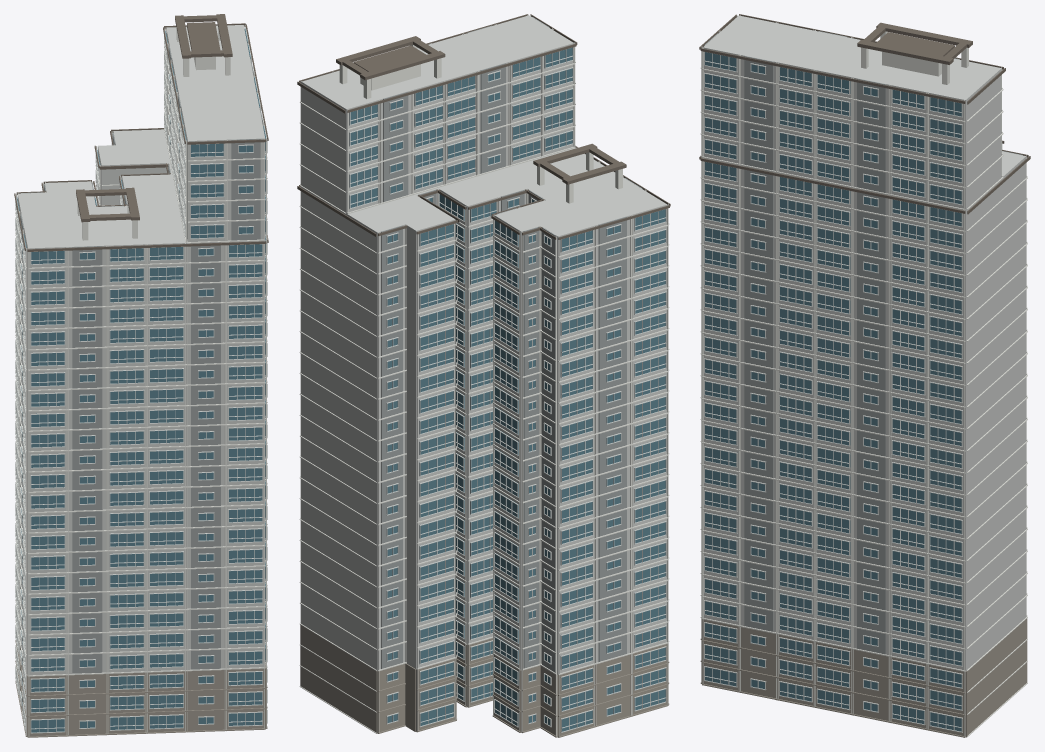
Rendered from bespoke-banpo-xi-102.glb.
The picture shows the model from 3 angles, left to right: view 1: azimuth 30°, elevation 25°; view 2: azimuth 150°, elevation 25°; view 3: azimuth 270°, elevation 25°; orthographic projection. The views are drawn at different scales.
Visible parts, largest first — view 1: BX102_editable_BX102_pale_silver_limestone002, BX102_editable_BX102_blue_grey_broad_glazing002, BX102_editable_BX102_white_window_frames002, BX102_editable_BX102_ivory_course_bands002, BX102_editable_BX102_grey_service_core002, BX102_editable_BX102_warm_ground_stone002, BX102_editable_BX102_dark_coping002; view 2: BX102_editable_BX102_pale_silver_limestone002, BX102_editable_BX102_blue_grey_broad_glazing002, BX102_editable_BX102_white_window_frames002, BX102_editable_BX102_ivory_course_bands002, BX102_editable_BX102_grey_service_core002, BX102_editable_BX102_warm_ground_stone002, BX102_editable_BX102_dark_coping002; view 3: BX102_editable_BX102_pale_silver_limestone002, BX102_editable_BX102_blue_grey_broad_glazing002, BX102_editable_BX102_white_window_frames002, BX102_editable_BX102_ivory_course_bands002, BX102_editable_BX102_grey_service_core002, BX102_editable_BX102_warm_ground_stone002, BX102_editable_BX102_dark_coping002.
Boxes of the visible parts, left/top/right/bottom form: BX102_editable_BX102_pale_silver_limestone002: left=17, top=25, right=265, bottom=675; BX102_editable_BX102_blue_grey_broad_glazing002: left=16, top=28, right=265, bottom=732; BX102_editable_BX102_white_window_frames002: left=15, top=28, right=267, bottom=733; BX102_editable_BX102_ivory_course_bands002: left=15, top=25, right=267, bottom=736; BX102_editable_BX102_grey_service_core002: left=20, top=45, right=262, bottom=673; BX102_editable_BX102_warm_ground_stone002: left=15, top=640, right=267, bottom=737; BX102_editable_BX102_dark_coping002: left=14, top=14, right=268, bottom=251; BX102_editable_BX102_pale_silver_limestone002: left=301, top=15, right=667, bottom=736; BX102_editable_BX102_blue_grey_broad_glazing002: left=349, top=47, right=665, bottom=731; BX102_editable_BX102_white_window_frames002: left=349, top=47, right=666, bottom=732; BX102_editable_BX102_ivory_course_bands002: left=299, top=15, right=669, bottom=736; BX102_editable_BX102_grey_service_core002: left=381, top=17, right=642, bottom=672; BX102_editable_BX102_warm_ground_stone002: left=300, top=625, right=669, bottom=737; BX102_editable_BX102_dark_coping002: left=297, top=14, right=670, bottom=239; BX102_editable_BX102_pale_silver_limestone002: left=703, top=15, right=1026, bottom=736; BX102_editable_BX102_blue_grey_broad_glazing002: left=705, top=52, right=961, bottom=731; BX102_editable_BX102_white_window_frames002: left=704, top=51, right=962, bottom=732; BX102_editable_BX102_ivory_course_bands002: left=700, top=15, right=1027, bottom=737; BX102_editable_BX102_grey_service_core002: left=704, top=31, right=1022, bottom=654; BX102_editable_BX102_warm_ground_stone002: left=700, top=618, right=1027, bottom=737; BX102_editable_BX102_dark_coping002: left=699, top=14, right=1030, bottom=214.
Size of the model in its own units: 40.52 by 81.3 by 36.88.
